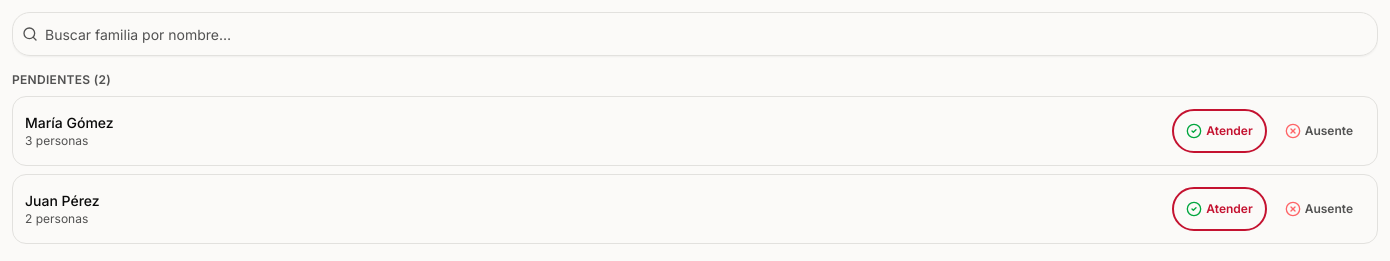
Test: CloseoutRosterList search (#141 salvage) › shows a no-results message when nothing matches
Type "zzz" into the field named "Buscar familia en la lista" at [695, 34], box [12,12,1378,56]
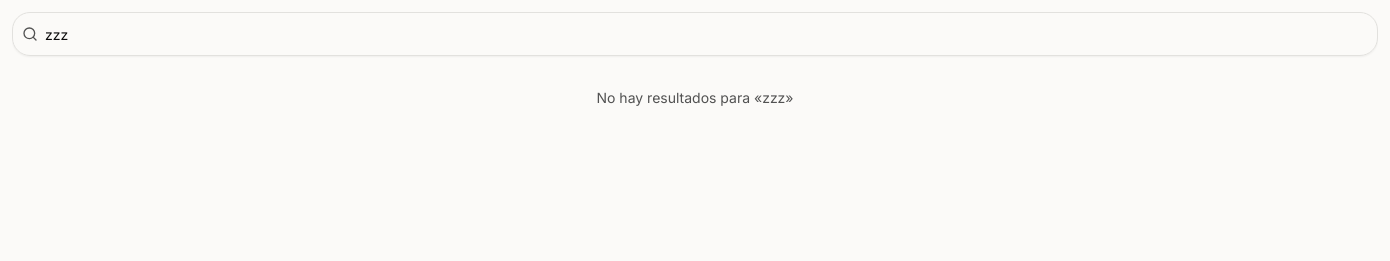
Check: the text "No hay resultados para «zzz»" is shown, box [596,89,794,106]
